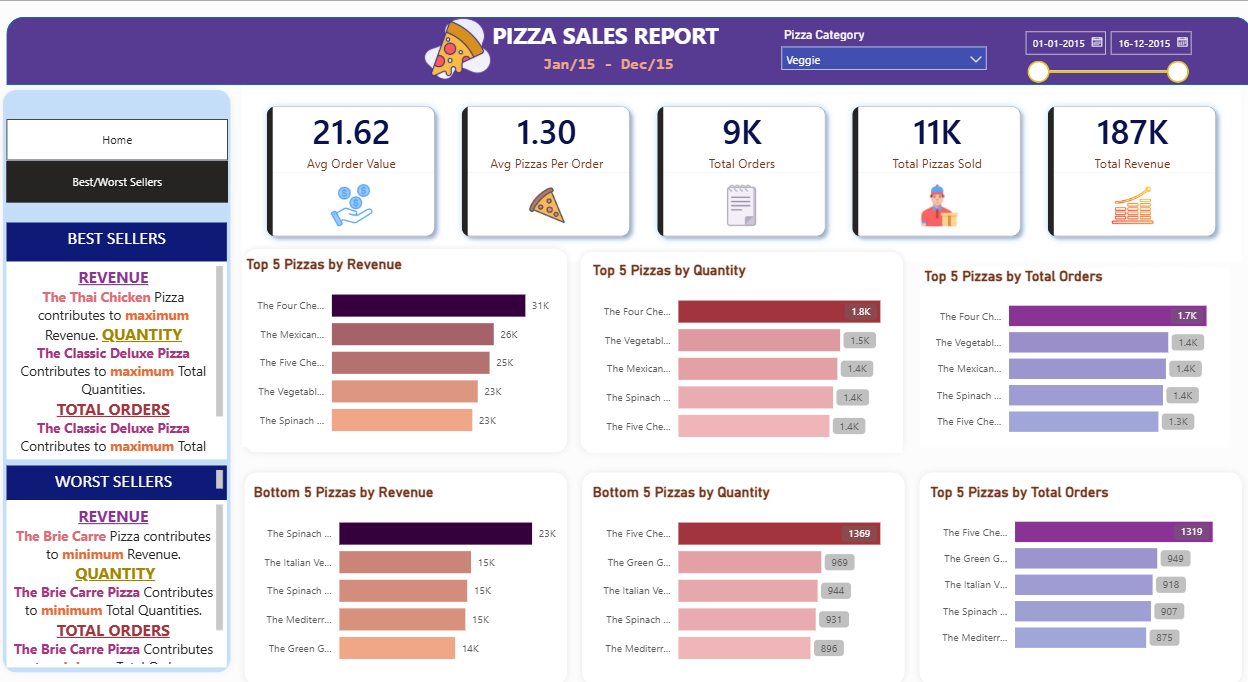

The dashboard page shown, as its layout file describes it:
{"tool":"powerbi","page":{"name":"Best/Worst Sellers","canvas":[1500,820],"ordinal":1},"visuals":[{"type":"shape","box":[14.3,100,285.7,705.4],"z":0},{"type":"cardVisual","fields":{"Data":["pizza pizza.Avg Order Value","pizza pizza.Avg Pizzas Per Order","pizza pizza.Total Orders","pizza pizza.Total Pizzas Sold","pizza pizza.Total Revenue"]},"box":[305.4,98.2,1182.1,212.5],"z":1000},{"type":"shape","box":[26.8,21.4,1473.2,80.4],"z":2000},{"type":"textbox","box":[596.8,19.4,288.7,45.2],"z":3000},{"type":"textbox","box":[656.7,60,166.7,40],"z":4000},{"type":"image","box":[508.3,20,105,78.3],"z":5000},{"type":"shape","box":[300,287.5,398.2,257.1],"z":6000},{"type":"textbox","box":[26.8,264.3,260.7,46.4],"z":7000},{"type":"textbox","box":[26.8,310.7,260.7,233.9],"z":8000},{"type":"textbox","box":[26.8,551.8,260.7,41.1],"z":9000},{"type":"textbox","box":[26.8,592.9,260.7,198.2],"z":10000},{"type":"slicer","fields":{"Values":["pizza pizza.pizza_category"]},"box":[933.9,28.6,262.5,62.5],"z":11000},{"type":"slicer","fields":{"Values":["pizza pizza.order_date"]},"box":[1219.6,28.6,221.4,73.2],"z":12000},{"type":"shape","box":[698.2,291.1,398.2,253.6],"z":13000},{"type":"shape","box":[300,551.8,398.2,267.9],"z":14000},{"type":"shape","box":[700,551.8,398.2,267.9],"z":15000},{"type":"shape","box":[1098.2,551.8,398.2,267.9],"z":16000},{"type":"barChart","title":"Top 5 Pizzas by Revenue","fields":{"Category":["pizza pizza.pizza_name"],"Y":["pizza pizza.Total Revenue"]},"box":[305.4,303.6,371.4,226.8],"z":17000},{"type":"barChart","title":"Bottom 5 Pizzas by Revenue","fields":{"Category":["pizza pizza.pizza_name"],"Y":["pizza pizza.Total Revenue"]},"box":[314.3,573.2,371.4,226.8],"z":18000},{"type":"barChart","title":"Top 5 Pizzas by Quantity","fields":{"Category":["pizza pizza.pizza_name"],"Y":["pizza pizza.Total Pizzas Sold"]},"box":[714.3,310.7,371.4,226.8],"z":19000},{"type":"barChart","title":"Bottom 5 Pizzas by Quantity","fields":{"Category":["pizza pizza.pizza_name"],"Y":["pizza pizza.Total Pizzas Sold"]},"box":[714.3,573.2,371.4,226.8],"z":20000},{"type":"barChart","title":"Top 5 Pizzas by Total Orders","fields":{"Category":["pizza pizza.pizza_name"],"Y":["pizza pizza.Total Orders"]},"box":[1107.1,317.9,366.1,212.5],"z":21000},{"type":"barChart","title":"Top 5 Pizzas by Total Orders","fields":{"Category":["pizza pizza.pizza_name"],"Y":["pizza pizza.Total Orders"]},"box":[1114.3,573.2,366.1,212.5],"z":22000},{"type":"pageNavigator","box":[26.8,141.1,262.5,50],"z":23000},{"type":"pageNavigator","box":[26.8,191.1,262.5,50],"z":24000}]}

Visuals, with their boxes in screenshot pixels (x1, y1, x2, y2), scaled from the page's 1500x820 canvas onto the 1248x682 screenshot:
shape: x1=12 y1=83 x2=250 y2=670
cardVisual - pizza pizza.Avg Order Value x pizza pizza.Avg Pizzas Per Order: x1=254 y1=82 x2=1238 y2=258
shape: x1=22 y1=18 x2=1247 y2=85
textbox: x1=497 y1=16 x2=737 y2=54
textbox: x1=546 y1=50 x2=685 y2=83
image: x1=423 y1=17 x2=510 y2=82
shape: x1=250 y1=239 x2=581 y2=453
textbox: x1=22 y1=220 x2=239 y2=258
textbox: x1=22 y1=258 x2=239 y2=453
textbox: x1=22 y1=459 x2=239 y2=493
textbox: x1=22 y1=493 x2=239 y2=658
slicer - pizza pizza.pizza_category: x1=777 y1=24 x2=995 y2=76
slicer - pizza pizza.order_date: x1=1015 y1=24 x2=1199 y2=85
shape: x1=581 y1=242 x2=912 y2=453
shape: x1=250 y1=459 x2=581 y2=681
shape: x1=582 y1=459 x2=914 y2=681
shape: x1=914 y1=459 x2=1245 y2=681
"Top 5 Pizzas by Revenue" barChart: x1=254 y1=253 x2=563 y2=441
"Bottom 5 Pizzas by Revenue" barChart: x1=261 y1=477 x2=571 y2=665
"Top 5 Pizzas by Quantity" barChart: x1=594 y1=258 x2=903 y2=447
"Bottom 5 Pizzas by Quantity" barChart: x1=594 y1=477 x2=903 y2=665
"Top 5 Pizzas by Total Orders" barChart: x1=921 y1=264 x2=1226 y2=441
"Top 5 Pizzas by Total Orders" barChart: x1=927 y1=477 x2=1232 y2=653
pageNavigator: x1=22 y1=117 x2=241 y2=159
pageNavigator: x1=22 y1=159 x2=241 y2=201
